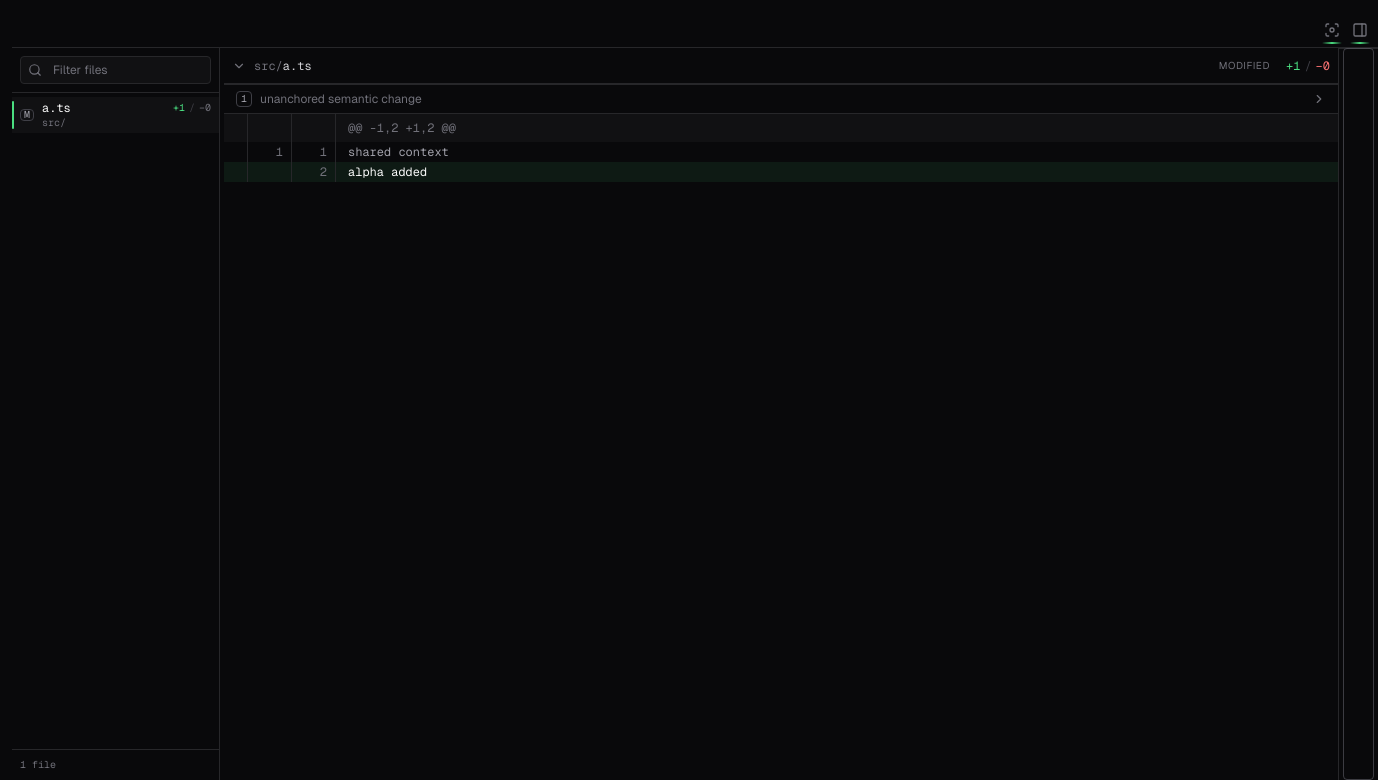
DiffView › unanchored semantic changes stay collapsed until asked for
Expected: the text "orphan" is not shown
Step 1. Click the button "1 unanchored semantic change" → (319, 99), box [224,85,1338,113]
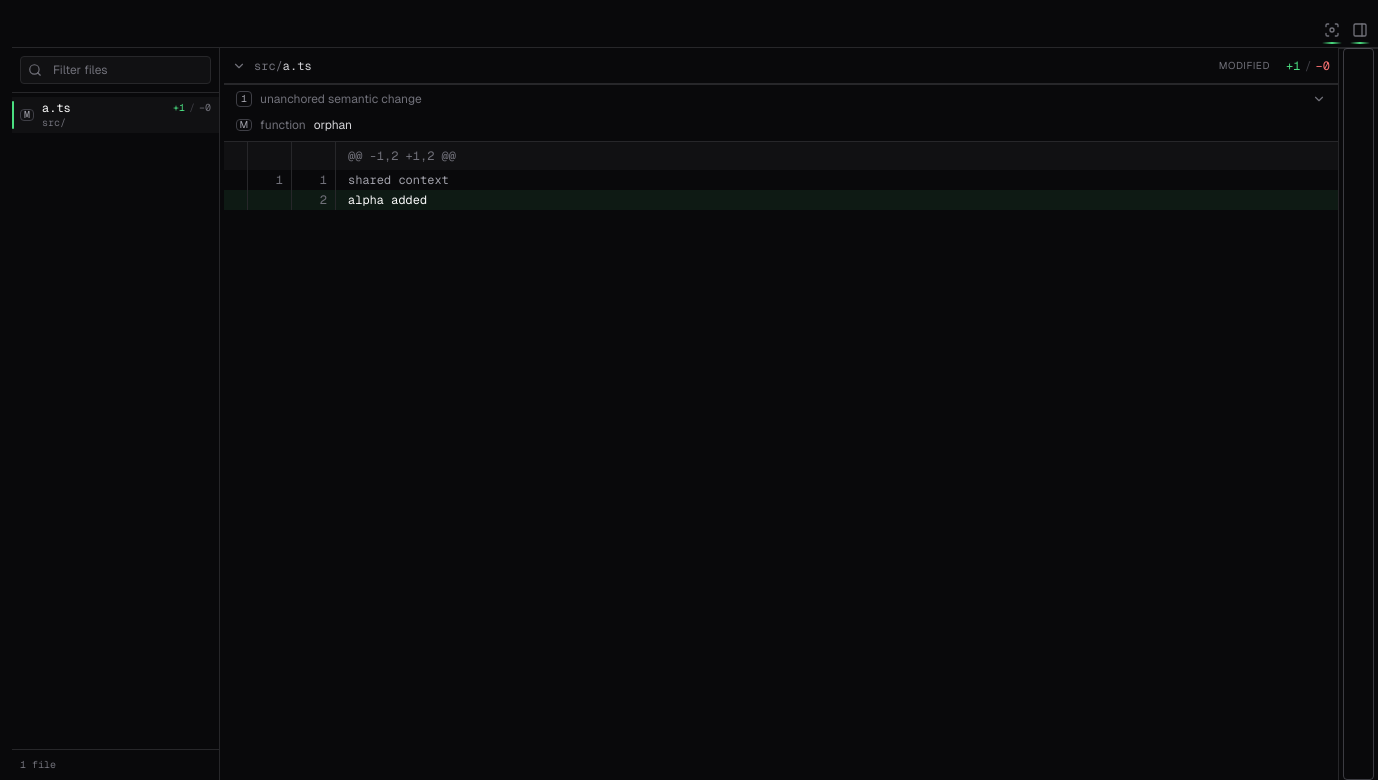
Now the text "orphan" is shown, box [314,117,352,133]
